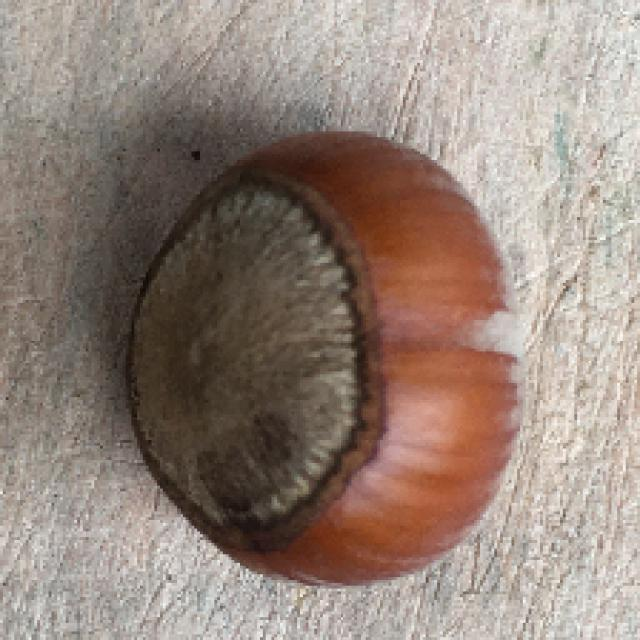qualityHazelnut: (116, 117, 538, 591)
